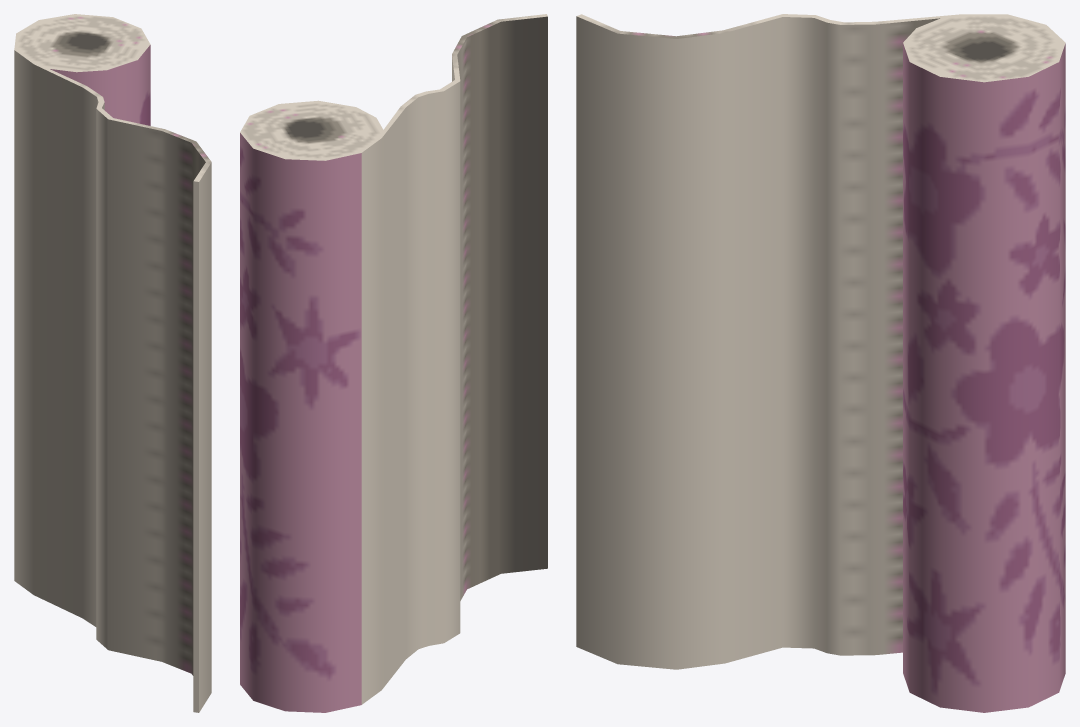
Rendered from Wallpaper_Hand.fbx.
The picture shows the model from 3 angles, left to right: view 1: azimuth 30°, elevation 25°; view 2: azimuth 150°, elevation 25°; view 3: azimuth 270°, elevation 25°; orthographic projection. The views are drawn at different scales.
Parts seen in each view (by area): view 1: Wallpaper; view 2: Wallpaper; view 3: Wallpaper.
Part boxes in pixels (box(x1,y1,x2,y2)): Wallpaper: box(14, 14, 211, 712); Wallpaper: box(240, 14, 547, 712); Wallpaper: box(576, 14, 1065, 712).
Size of the model in its own units: 0.0835 by 0.3593 by 0.2527.
